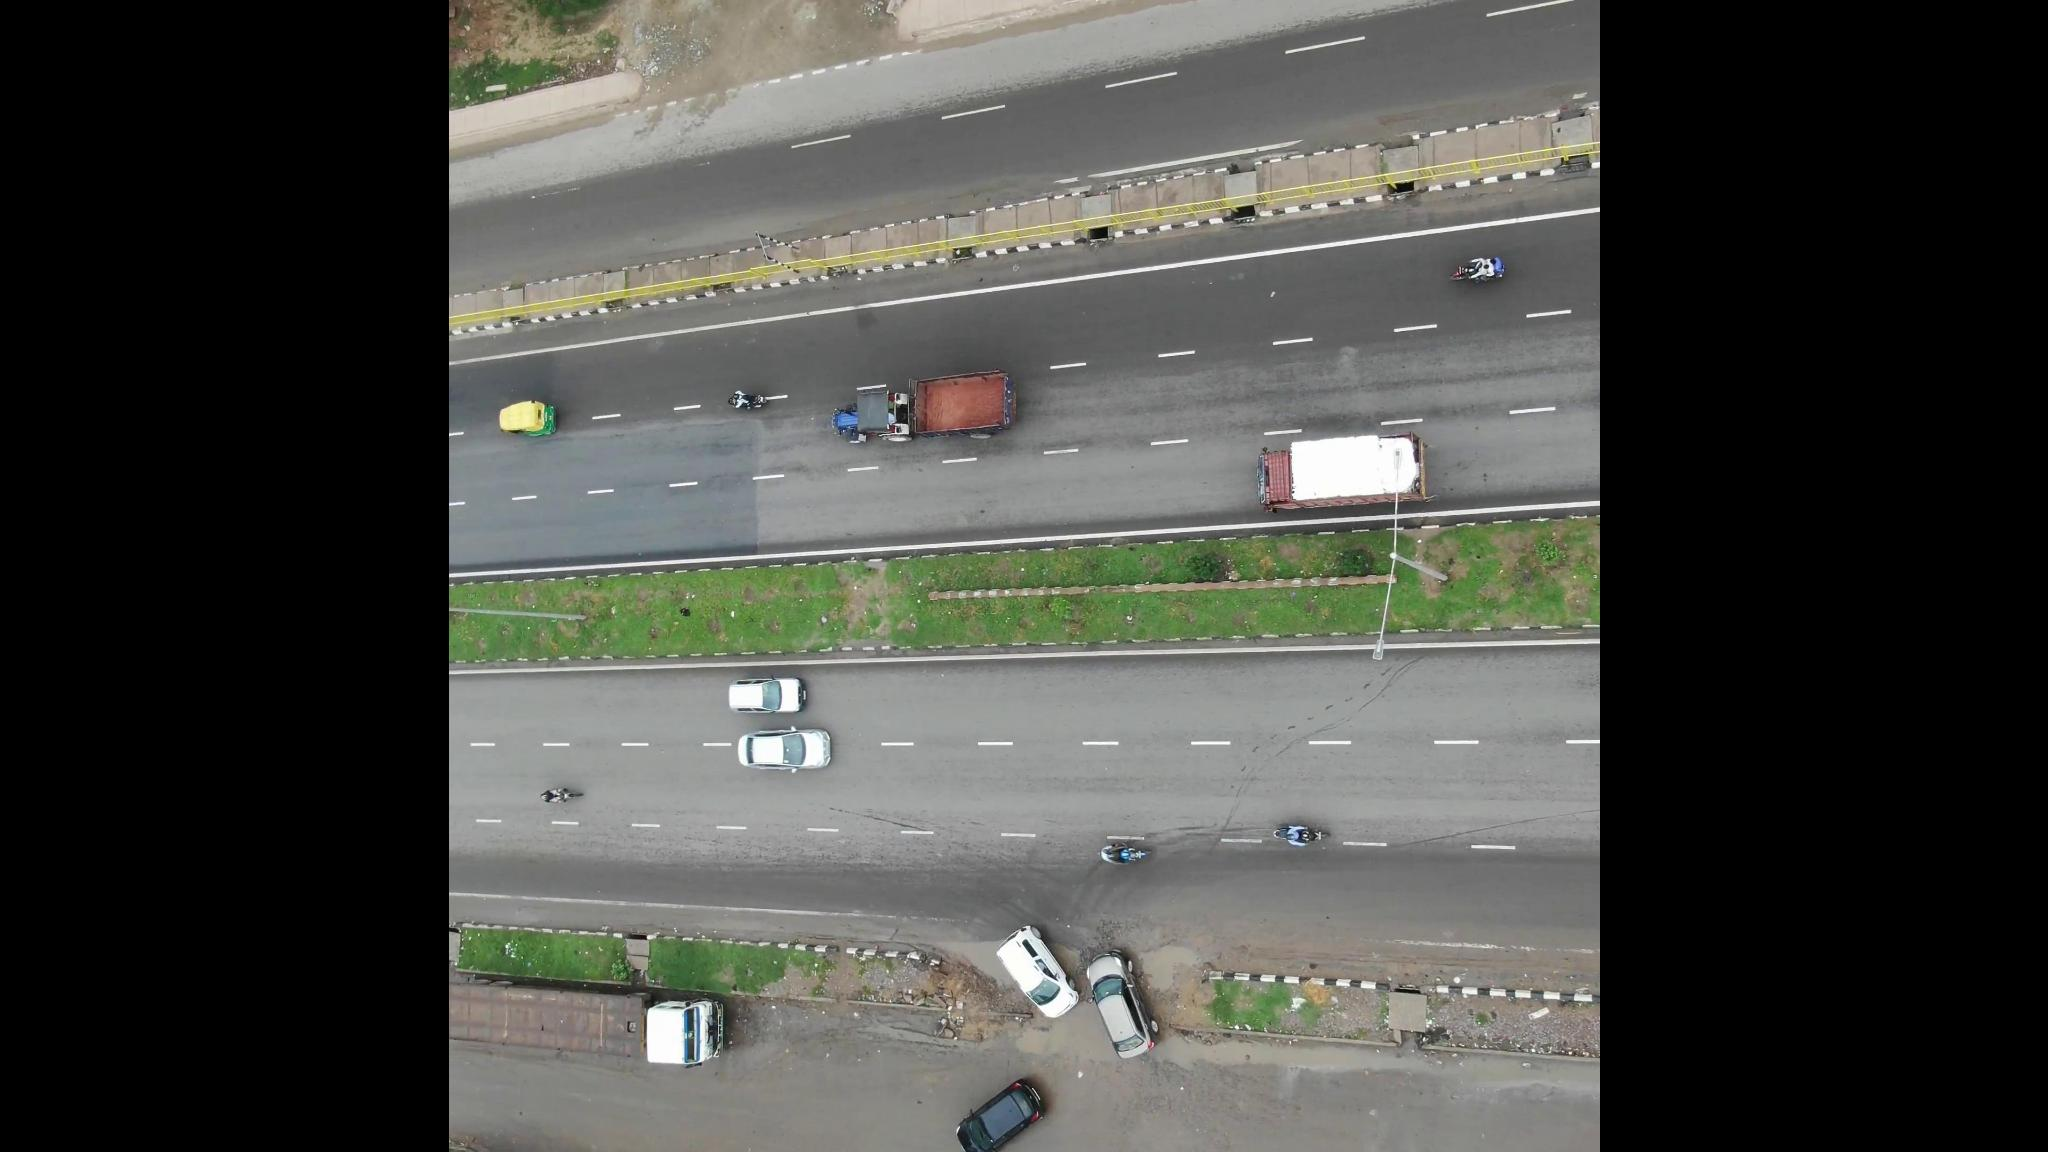Potholes: (1134, 933, 1218, 1004), (986, 1004, 1051, 1068)
Waterlogging: (1197, 1039, 1421, 1096)
